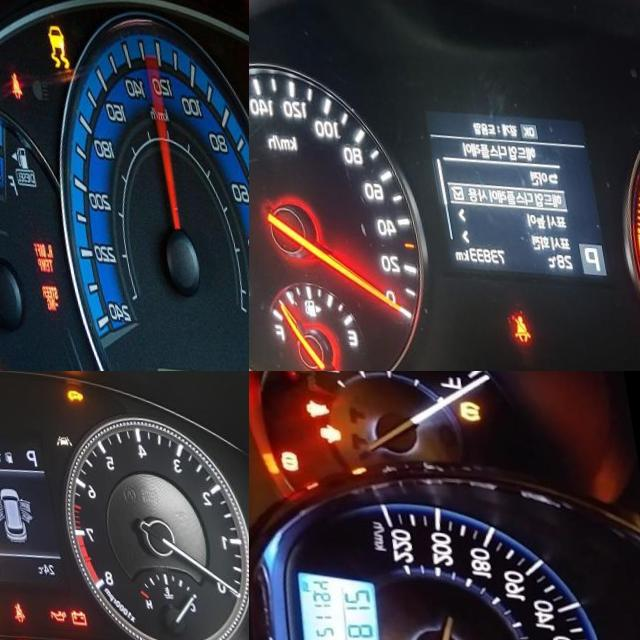LaneCenteringOff: (47, 426, 65, 439)
Seat Belt: (300, 394, 327, 414)
